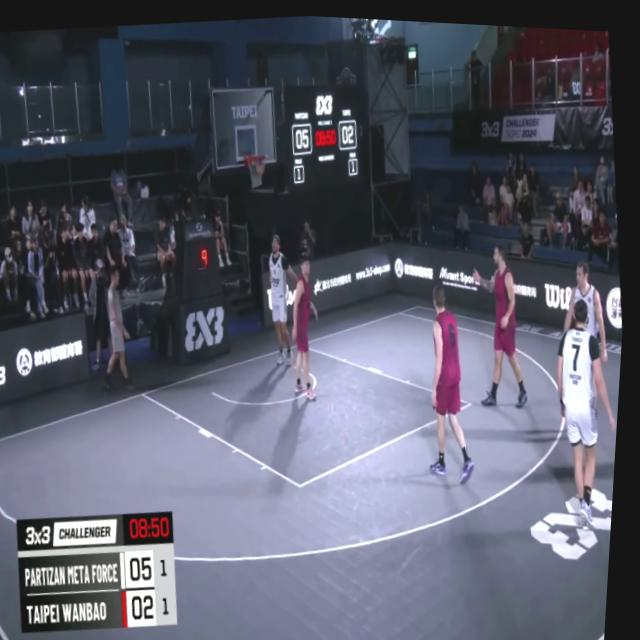ball: (252, 153, 269, 175)
hoop: (243, 145, 275, 184)
player: (545, 285, 628, 525), (417, 276, 489, 482), (464, 238, 539, 409), (281, 241, 334, 401), (260, 229, 307, 368), (558, 252, 615, 360)
